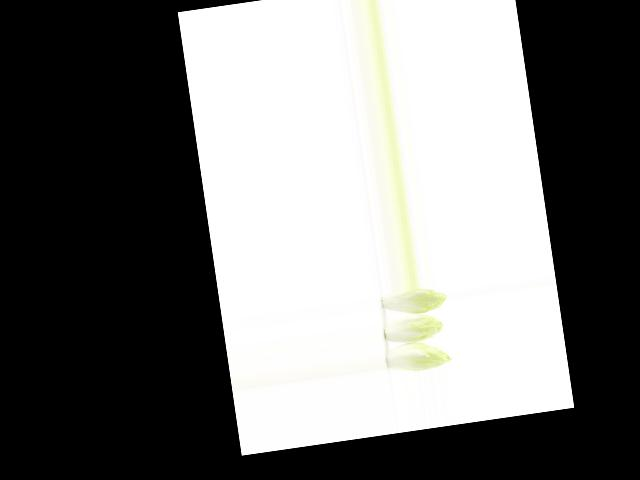lettuce: (382, 338, 453, 376)
